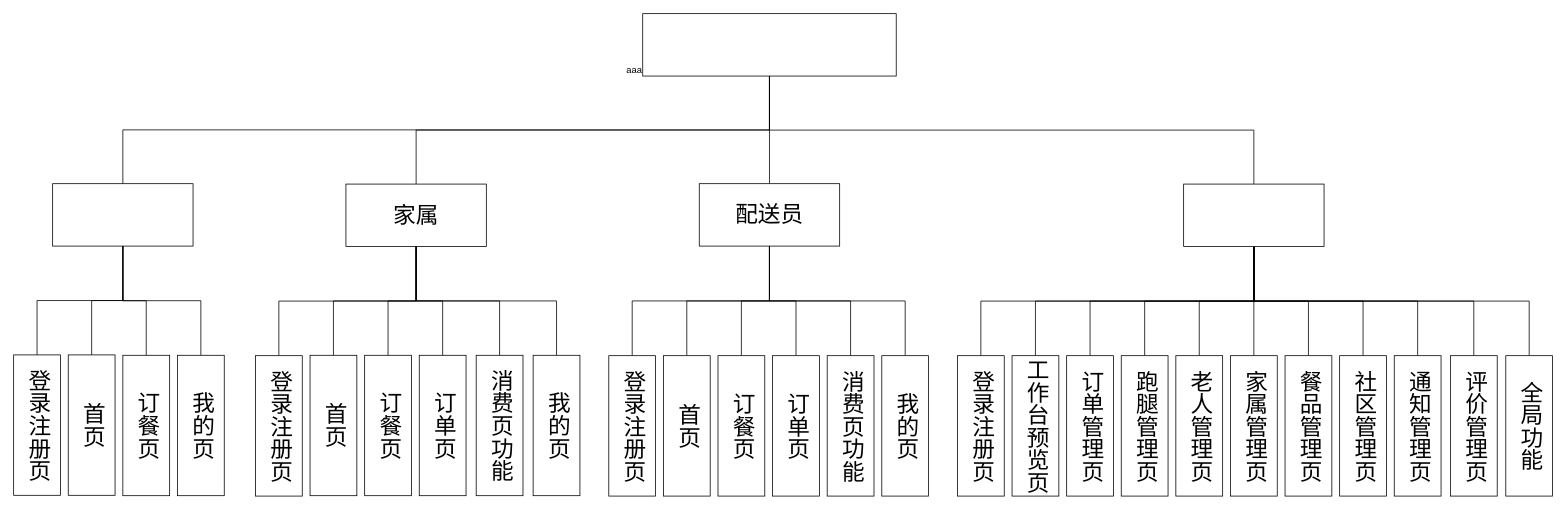
The diagram is 1566 pixels wide and 510 high, and some of its shapes have lost their labels. Each missing label, with the box of its shape:
社区老人餐预定与配送: (642, 13, 896, 76)
管理员: (1183, 183, 1324, 246)
老人: (52, 183, 193, 246)
